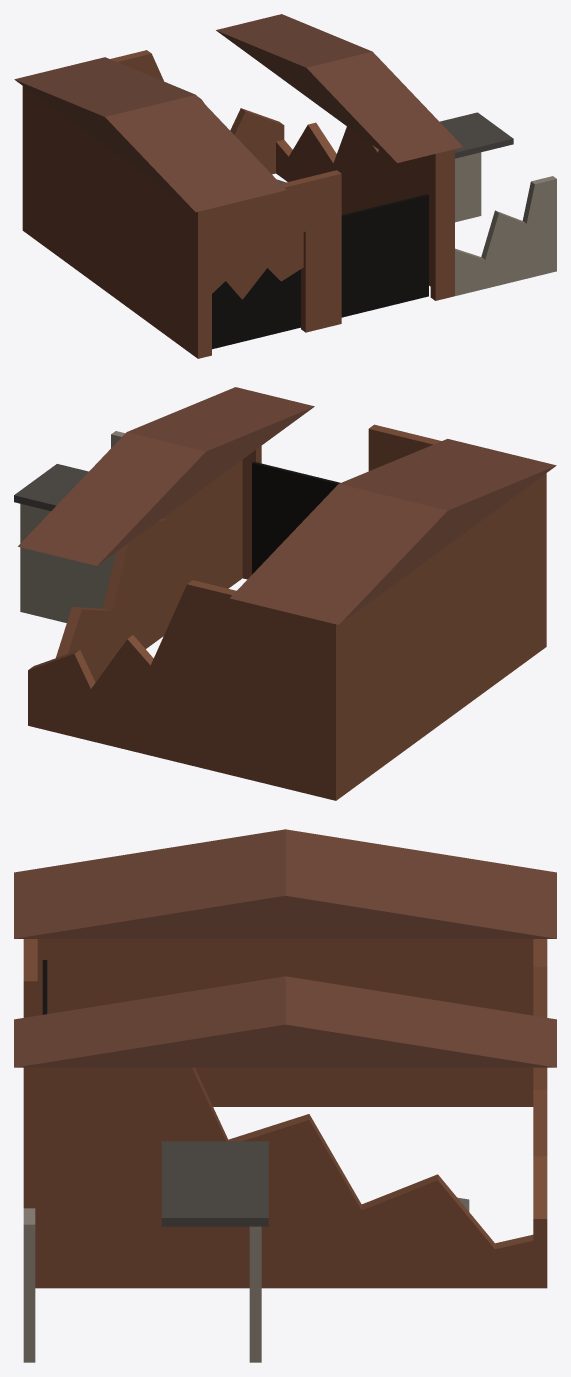
3 views of the same model, one above another, from view 1: azimuth 30°, elevation 25°; view 2: azimuth 150°, elevation 25°; view 3: azimuth 270°, elevation 25° (orthographic). The views are drawn at different scales.
Visible parts, largest first — view 1: site_garage_ruin; view 2: site_garage_ruin; view 3: site_garage_ruin.
Part boxes in pixels (x1=…): site_garage_ruin: x1=14, y1=14, x2=556, y2=358; site_garage_ruin: x1=14, y1=387, x2=556, y2=800; site_garage_ruin: x1=14, y1=829, x2=556, y2=1362.
Size of the model in its own units: 13.3 by 6.2 by 11.4.
